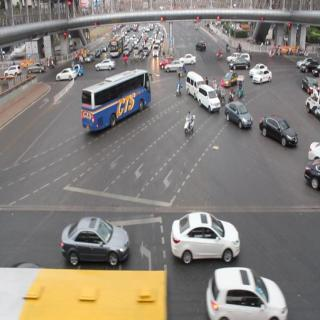BigCar: (81, 68, 155, 129)
Car: (206, 265, 290, 320), (170, 212, 240, 266), (61, 218, 131, 268), (260, 114, 298, 156), (224, 100, 253, 131), (198, 83, 218, 115), (56, 66, 75, 86), (185, 71, 199, 98), (165, 60, 185, 74), (5, 62, 22, 77), (254, 71, 272, 85), (230, 59, 250, 71), (96, 57, 113, 71), (302, 60, 316, 77), (221, 72, 238, 85), (28, 64, 44, 75), (196, 41, 208, 52), (152, 48, 160, 55)
